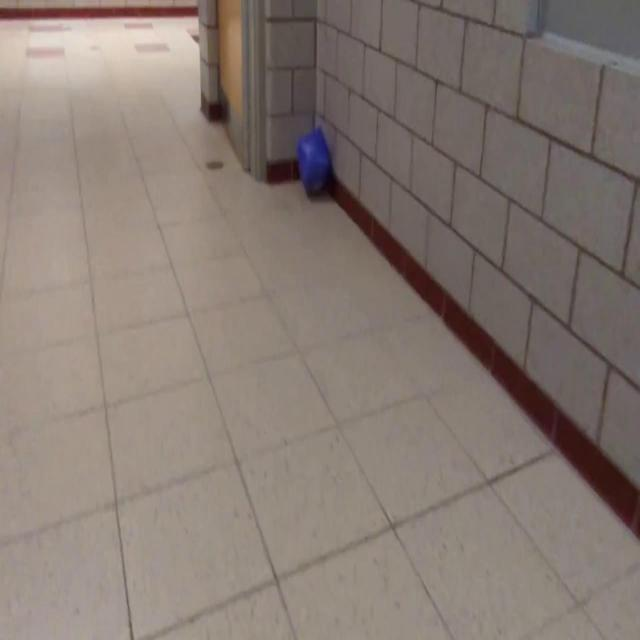frc_cube: (296, 129, 333, 197)
